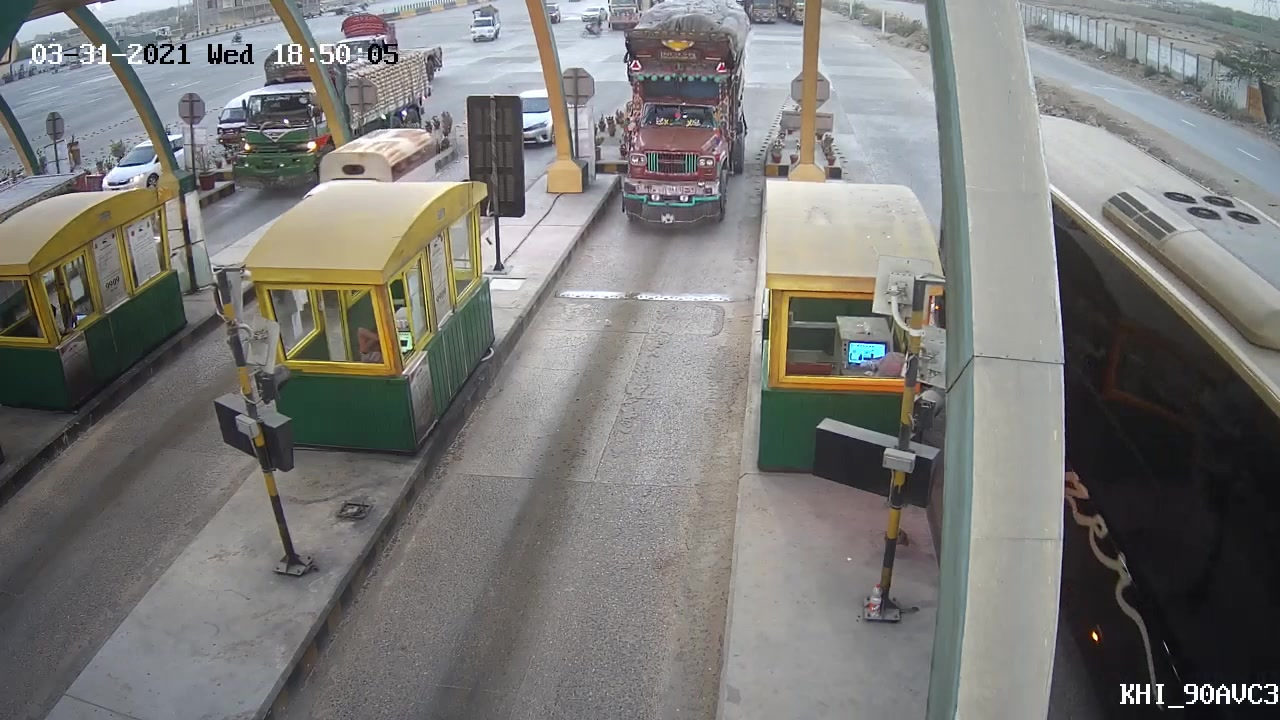F5: (589, 8, 745, 228)
